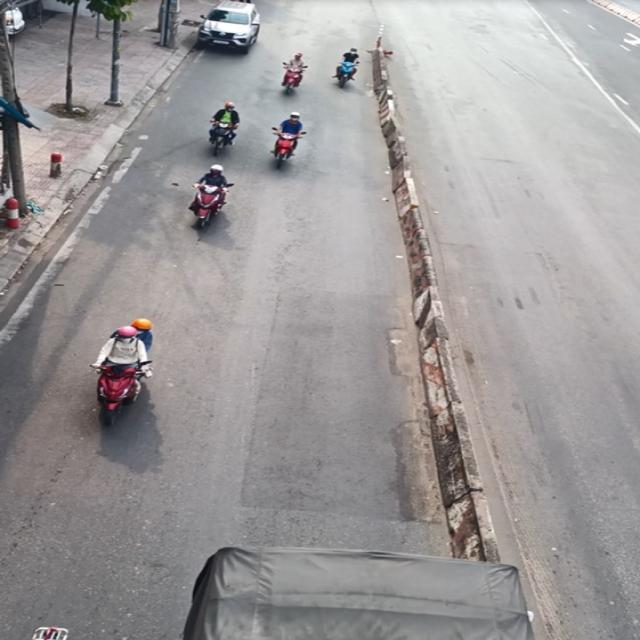motor: (90, 315, 160, 419), (270, 105, 316, 186), (186, 160, 233, 238), (197, 93, 237, 160)
